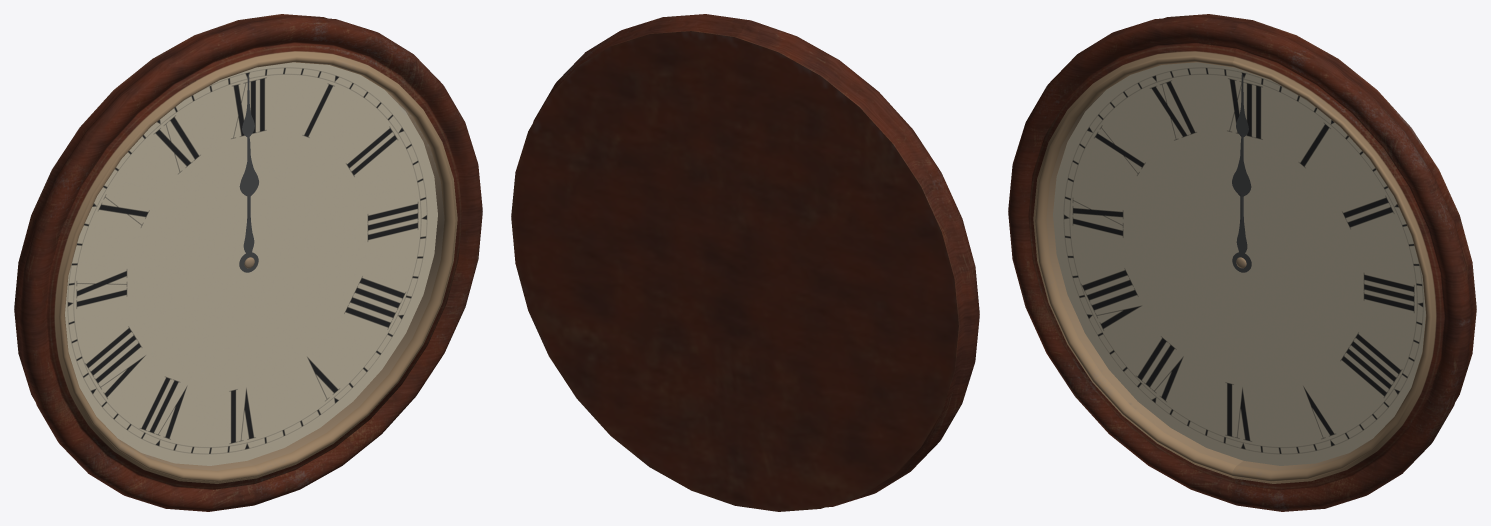
The model's file is clock.glb.
3 views of the same model, side by side, from view 1: azimuth 30°, elevation 25°; view 2: azimuth 150°, elevation 25°; view 3: azimuth 330°, elevation 25° (orthographic).
Parts seen in each view (by area): view 1: Object_2; view 2: Object_2; view 3: Object_2.
Part boxes in pixels (left/top/right/bottom): Object_2: left=14, top=14, right=482, bottom=511; Object_2: left=511, top=14, right=979, bottom=511; Object_2: left=1008, top=14, right=1476, bottom=511.
Bounding box in the file's own units: 0.4 × 0.4 × 0.0308.
1 material, 1 textured.
